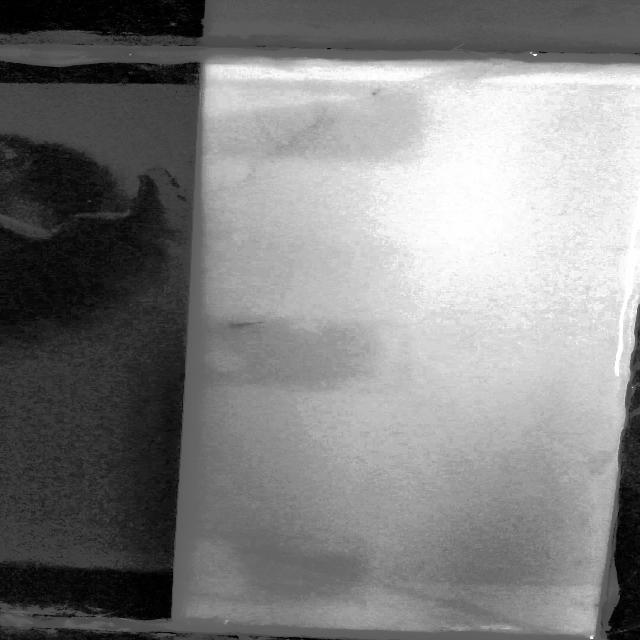shrimp: (223, 316, 279, 331)
